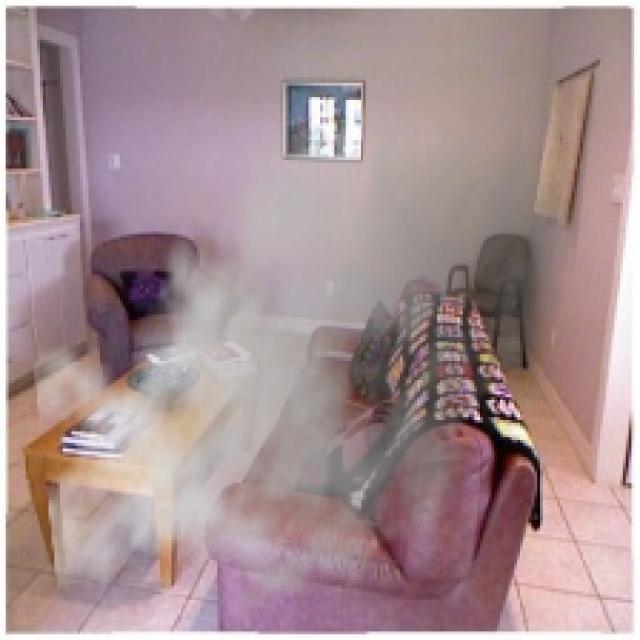Smoke: (31, 74, 580, 629)
